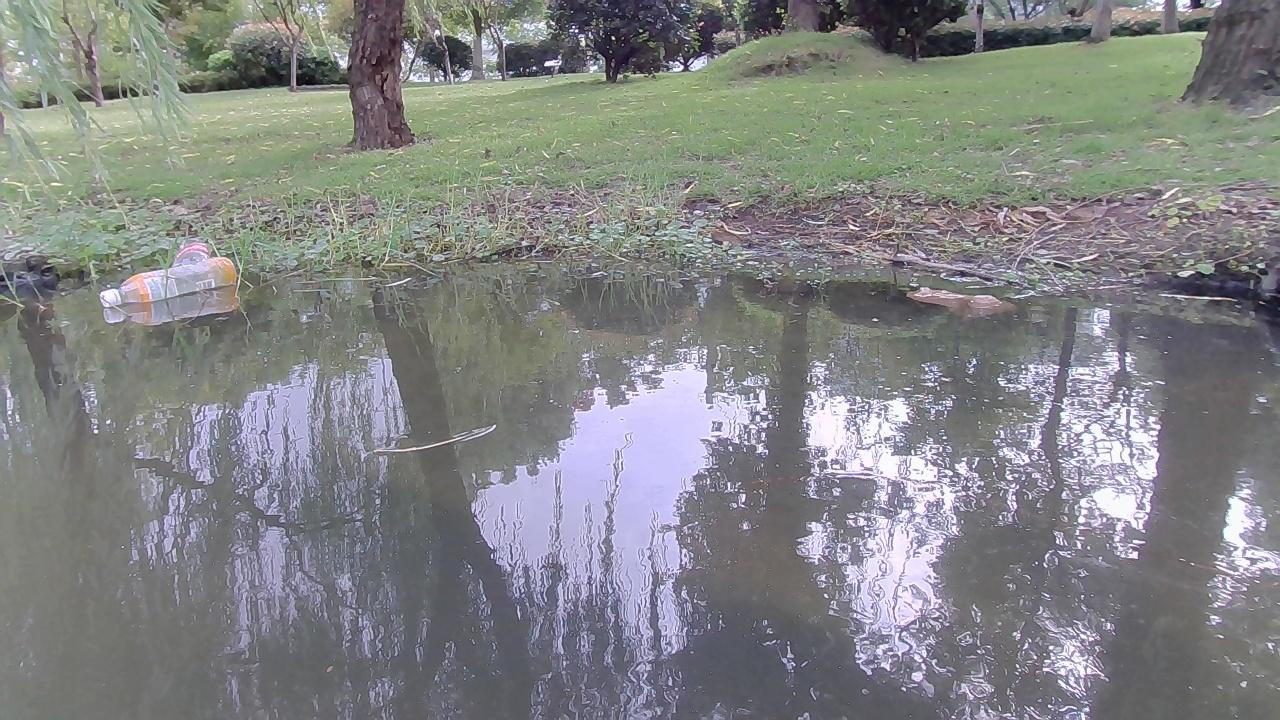bottle: (99, 256, 240, 310), (173, 239, 211, 267)
